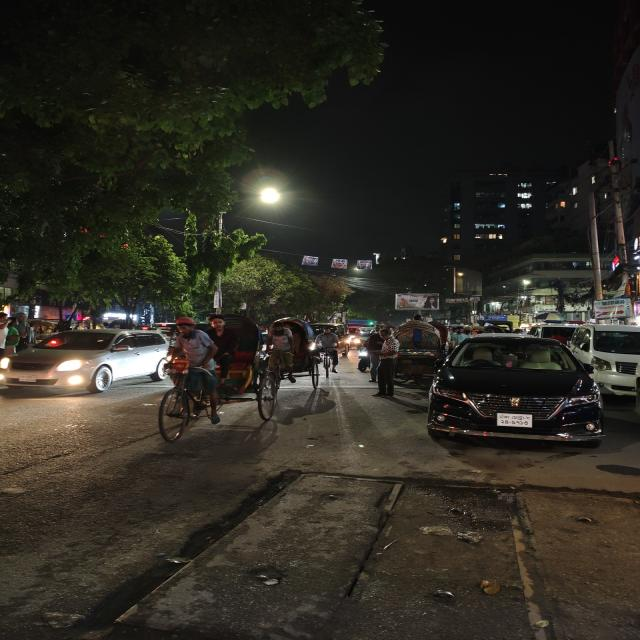bicycle: (318, 325, 342, 380)
car: (425, 334, 608, 451), (3, 324, 172, 400), (572, 321, 640, 397)
pedestrian: (373, 328, 401, 395)
rickshaw: (154, 311, 278, 444), (371, 313, 449, 398), (266, 316, 325, 386)
